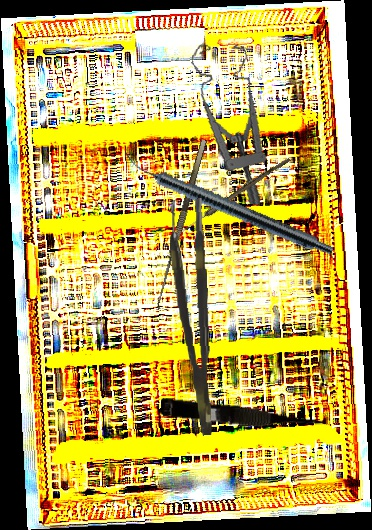Handpiece: (118, 150, 338, 260)
Hook Surgical: (153, 139, 216, 311)
Micro Scissor: (159, 397, 329, 437)
Speculum: (170, 38, 285, 206)
Surgical Spoon: (175, 154, 291, 239)
Tissue Forceps: (167, 198, 216, 437)
